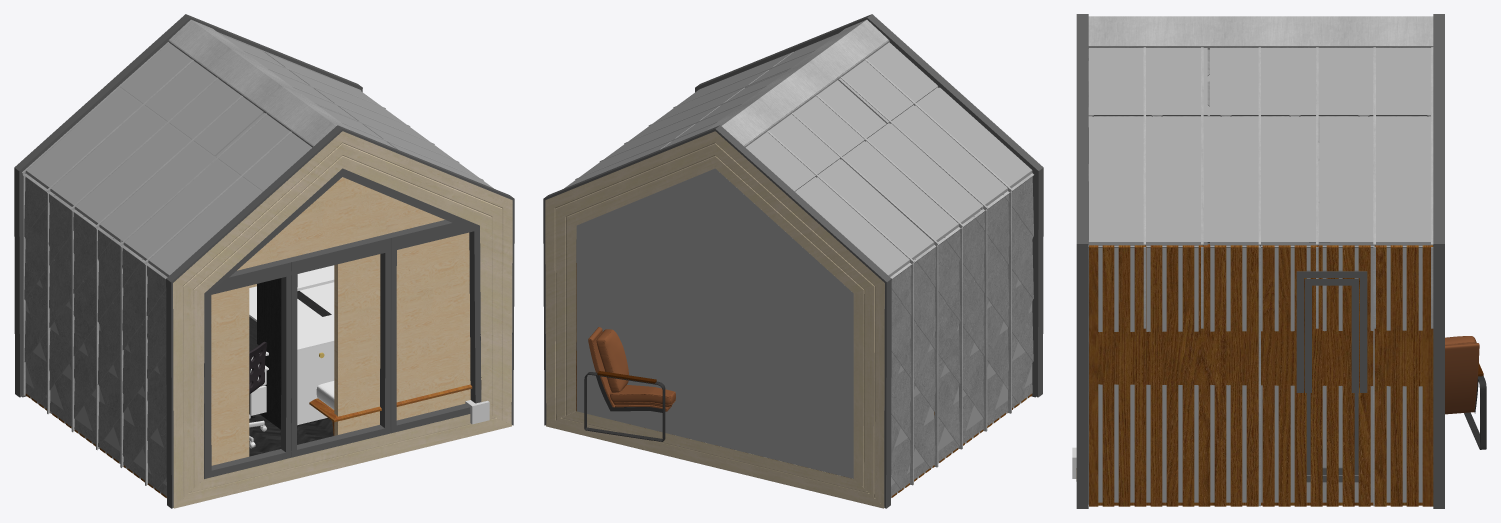
File: brensjtest1.glb
The picture shows the model from 3 angles, left to right: view 1: azimuth 30°, elevation 25°; view 2: azimuth 150°, elevation 25°; view 3: azimuth 270°, elevation 25°; orthographic projection. The views are drawn at different scales.
Visible parts, largest first — view 1: Equitone, frame, leien, frametussenscheiding1, framewindow, zink, kast5_Meubilair, frametussenscheiding3, frameback, framewindow2, floor, tafel2 (+4 smaller); view 2: backwall, Equitone, frameback, leien, zink, frame, zetel1; view 3: Equitone, thermowood, zink, frame, frameback, sWindow1, zetel1, leien.
Boxes of the visible parts, x1=… form: Equitone: x1=25, y1=34, x2=493, y2=485; frame: x1=166, y1=125, x2=514, y2=508; leien: x1=24, y1=40, x2=313, y2=496; frametussenscheiding1: x1=249, y1=177, x2=470, y2=434; framewindow: x1=204, y1=168, x2=481, y2=478; zink: x1=22, y1=19, x2=483, y2=497; kast5_Meubilair: x1=257, y1=265, x2=334, y2=429; frametussenscheiding3: x1=211, y1=260, x2=249, y2=465; frameback: x1=14, y1=14, x2=362, y2=397; framewindow2: x1=211, y1=220, x2=473, y2=468; floor: x1=249, y1=414, x2=333, y2=456; tafel2: x1=249, y1=341, x2=268, y2=448; backwall: x1=576, y1=168, x2=853, y2=478; Equitone: x1=564, y1=34, x2=1032, y2=485; frameback: x1=543, y1=125, x2=891, y2=508; leien: x1=744, y1=40, x2=1033, y2=496; zink: x1=575, y1=19, x2=1033, y2=497; frame: x1=695, y1=14, x2=1043, y2=397; zetel1: x1=584, y1=327, x2=675, y2=441; Equitone: x1=1088, y1=48, x2=1432, y2=502; thermowood: x1=1089, y1=244, x2=1433, y2=506; zink: x1=1088, y1=16, x2=1433, y2=506; frame: x1=1076, y1=14, x2=1088, y2=508; frameback: x1=1433, y1=14, x2=1444, y2=508; sWindow1: x1=1296, y1=270, x2=1367, y2=482; zetel1: x1=1445, y1=336, x2=1486, y2=449; leien: x1=1088, y1=46, x2=1432, y2=464.
Size of the model in its own units: 39.49 by 37.23 by 35.15.
Materials: 41 (12 with a texture image).
